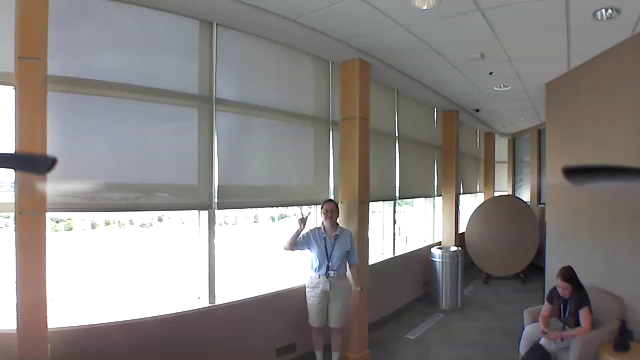peace: (292, 204, 312, 232)
